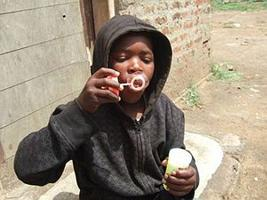person: (16, 12, 202, 200)
